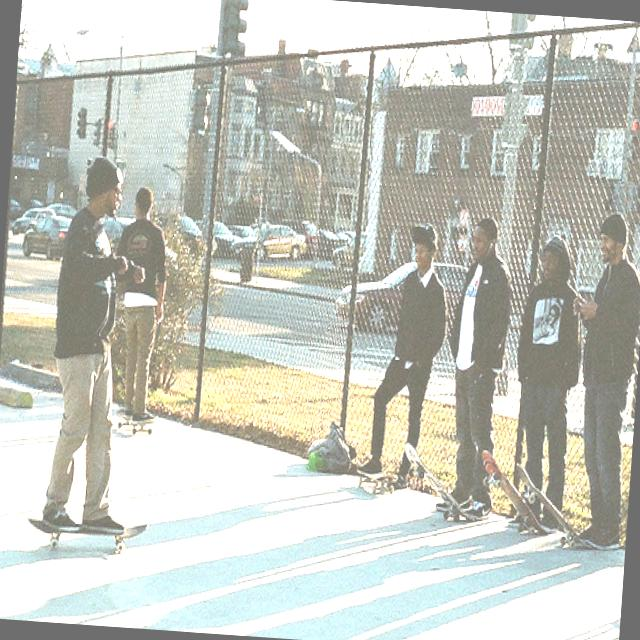Vehicle: (5, 186, 362, 256), (331, 254, 472, 339), (239, 221, 308, 265), (21, 212, 70, 262), (195, 224, 242, 256), (9, 205, 55, 237), (98, 216, 136, 246), (174, 213, 202, 250), (334, 232, 366, 264), (216, 227, 252, 240), (48, 203, 76, 217), (8, 201, 24, 218), (213, 221, 231, 233)
